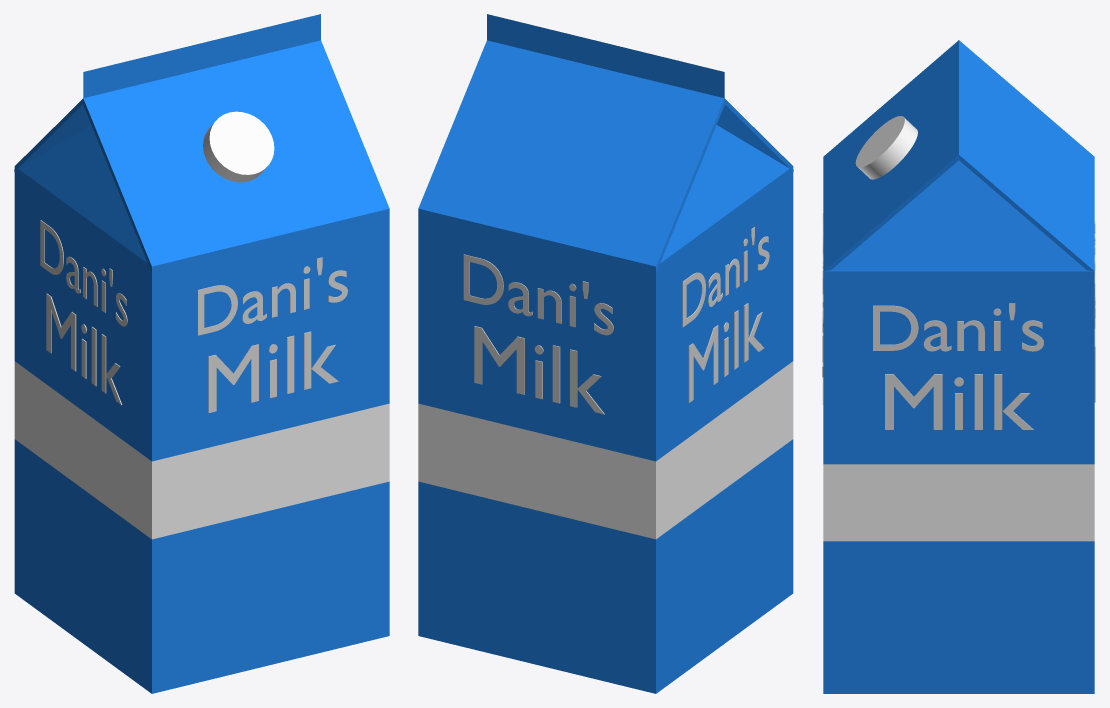
The model's file is danimilk.fbx.
3 views of the same model, side by side, from view 1: azimuth 30°, elevation 25°; view 2: azimuth 150°, elevation 25°; view 3: azimuth 270°, elevation 25° (orthographic).
Parts seen in each view (by area): view 1: Cube, Cube.001, Cylinder, Text.001, Text, Text.003, Text.002; view 2: Cube, Cube.001, Text.005, Text.004, Text.003, Text.002; view 3: Cube, Cube.001, Text.007, Text.006, Cylinder.
Part boxes in pixels (bbox=[...]): Cube: bbox=[14, 169, 389, 693]; Cube.001: bbox=[14, 14, 389, 271]; Cylinder: bbox=[203, 111, 274, 182]; Text.001: bbox=[208, 331, 338, 412]; Text: bbox=[197, 257, 347, 335]; Text.003: bbox=[46, 293, 122, 405]; Text.002: bbox=[40, 220, 127, 326]; Cube: bbox=[418, 169, 793, 693]; Cube.001: bbox=[418, 14, 793, 271]; Text.005: bbox=[474, 326, 604, 414]; Text.004: bbox=[463, 254, 613, 335]; Text.003: bbox=[688, 303, 763, 402]; Text.002: bbox=[682, 227, 769, 327]; Cube: bbox=[823, 271, 1094, 693]; Cube.001: bbox=[823, 40, 1094, 271]; Text.007: bbox=[885, 374, 1033, 429]; Text.006: bbox=[873, 303, 1043, 351]; Cylinder: bbox=[855, 116, 917, 179].
Size of the model in its own units: 613 by 1401 by 613.
